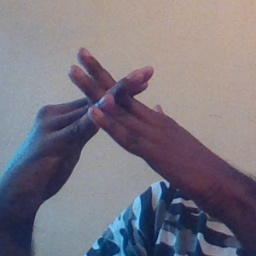W: (44, 37, 169, 167)
